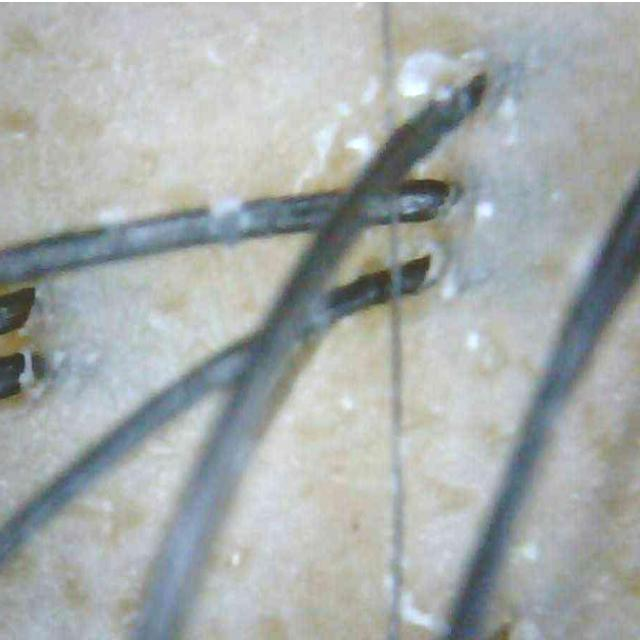d: (398, 48, 459, 95), (401, 592, 446, 635)
ds: (459, 327, 504, 373)
o: (431, 80, 562, 309)
